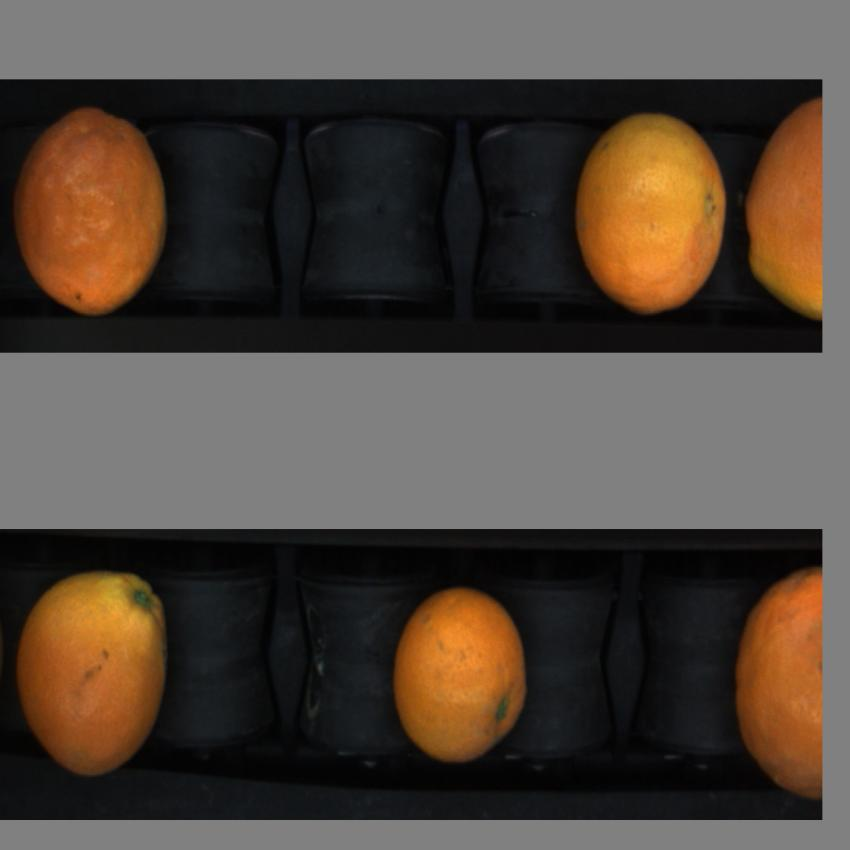Buen estado: (13, 564, 181, 774), (572, 107, 728, 316), (388, 574, 537, 766), (745, 93, 826, 339)
Mal estado: (10, 100, 170, 321), (732, 567, 822, 806)
